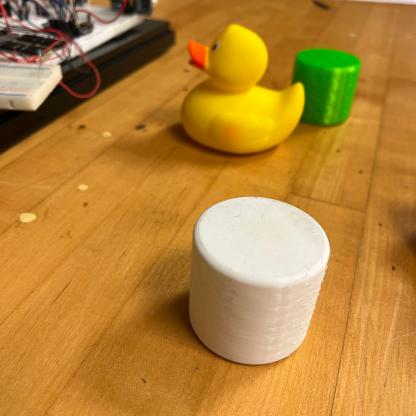duck: (179, 22, 307, 158)
green cylinder: (290, 46, 363, 128)
white cylinder: (186, 192, 332, 369)
